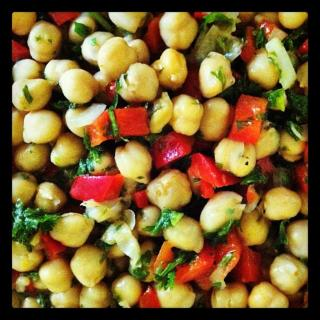tomato: (85, 104, 150, 150), (186, 151, 241, 201), (210, 223, 240, 291), (230, 92, 267, 142), (69, 171, 119, 204), (172, 248, 214, 284), (232, 247, 266, 286), (137, 285, 163, 308)
